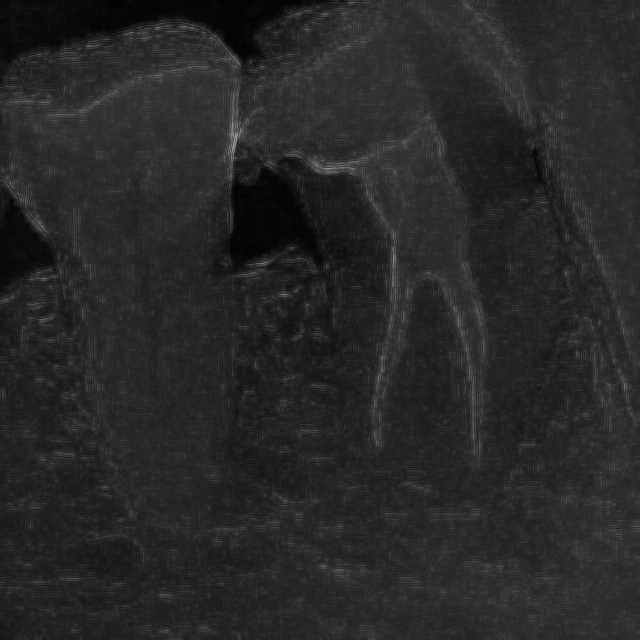Class 0- No endodontic treatment: (244, 25, 599, 558)
